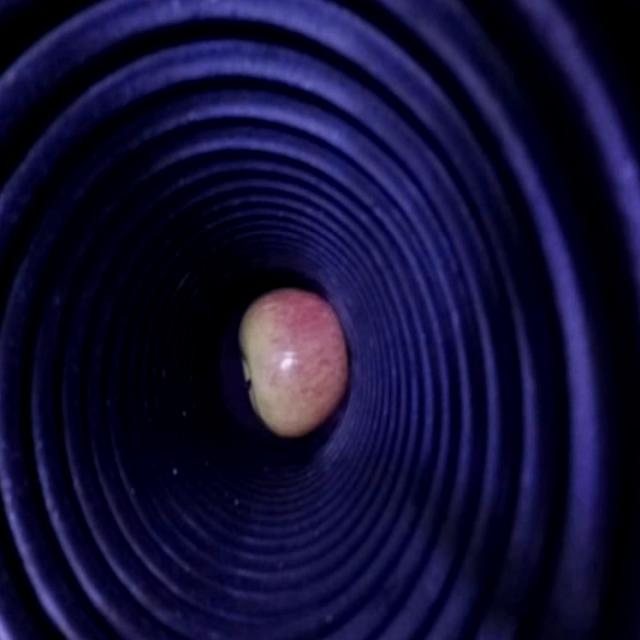obstacles: (238, 285, 350, 441)
